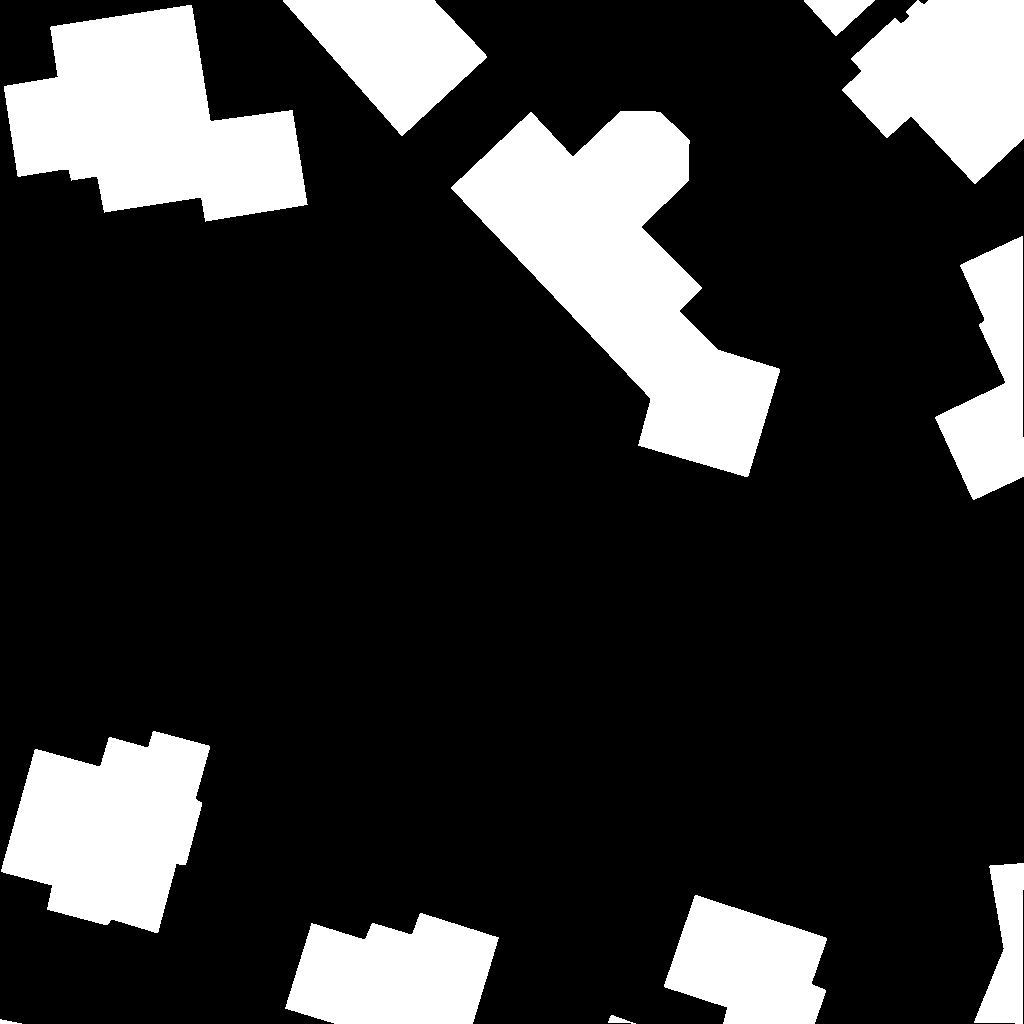building: (451, 111, 781, 478), (4, 5, 308, 222), (1, 731, 211, 934), (842, 0, 1024, 185), (608, 895, 828, 1024), (282, 0, 488, 137), (285, 913, 500, 1024), (935, 236, 1024, 501), (974, 863, 1024, 1024), (803, 0, 876, 37), (0, 1019, 23, 1024)
